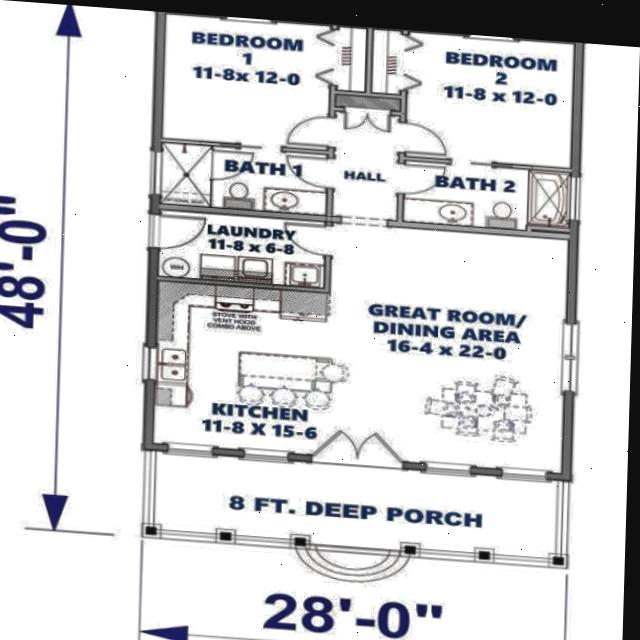room: (146, 82, 588, 473), (151, 452, 562, 557), (365, 29, 580, 167), (158, 14, 369, 152), (155, 211, 327, 287), (159, 143, 329, 215), (402, 162, 574, 233)
